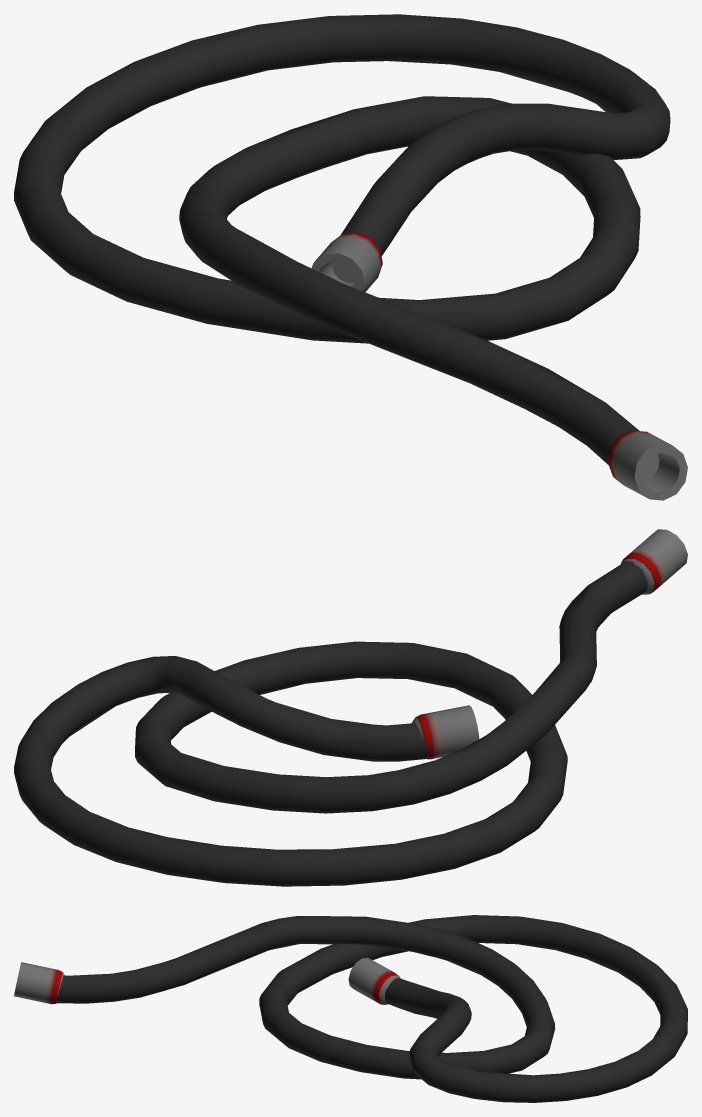
File: sf_cable.glb
3 renders of one model, top to bottom at view 1: azimuth 30°, elevation 25°; view 2: azimuth 150°, elevation 25°; view 3: azimuth 270°, elevation 25°, orthographic. The views are drawn at different scales.
Visible parts, largest first — view 1: Prop_Cable_1; view 2: Prop_Cable_1; view 3: Prop_Cable_1.
Part boxes in pixels (x1=…): Prop_Cable_1: x1=14, y1=14, x2=687, y2=500; Prop_Cable_1: x1=14, y1=529, x2=687, y2=886; Prop_Cable_1: x1=14, y1=915, x2=687, y2=1102.
Size of the model in its own units: 1.02 by 0.1469 by 1.65.
Materials: 2 (2 with a texture image).
